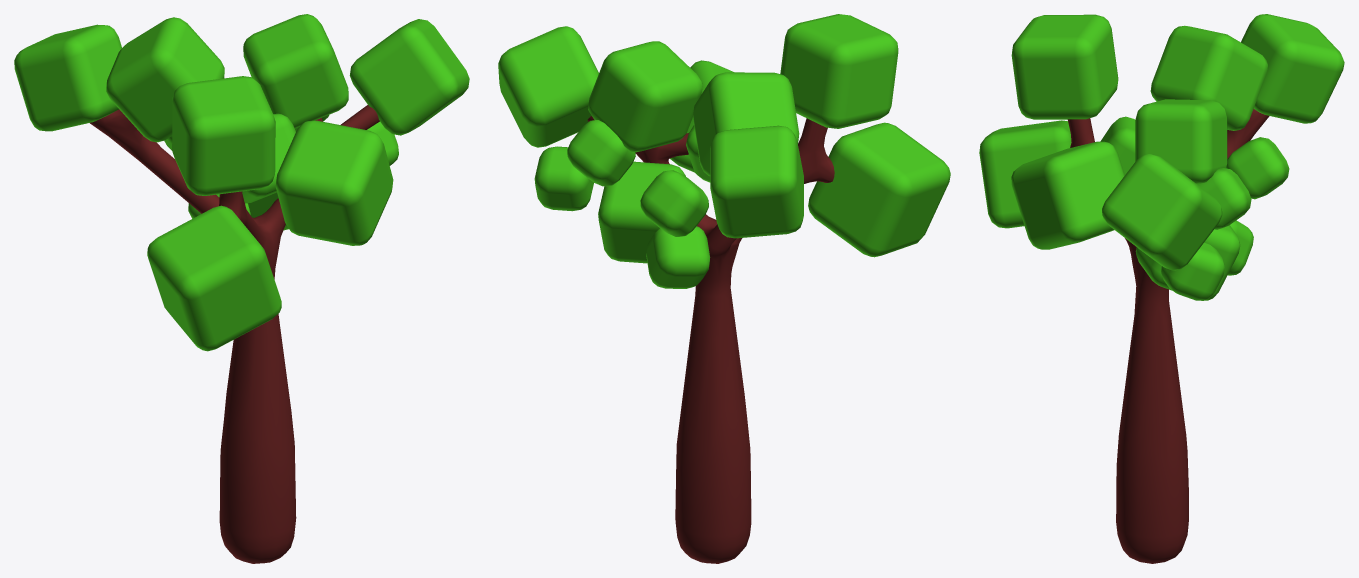
Rendered from tree-round.glb.
3 renders of one model, left to right at view 1: azimuth 30°, elevation 25°; view 2: azimuth 150°, elevation 25°; view 3: azimuth 270°, elevation 25°, orthographic. The views are drawn at different scales.
Visible parts, largest first — view 1: Tree, Cube.004, Cube.025, Cube.005, Cube.003, Cube, Cube.002, Cube.006, Cube.007, Cube.009; view 2: Tree, Cube.004, Cube.005, Cube, Cube.006, Cube.003, Cube.002, Cube.010, Cube.008, Cube.011, Cube.012, Cube.009 (+1 smaller); view 3: Tree, Cube.005, Cube.025, Cube.003, Cube.002, Cube, Cube.006, Cube.004, Cube.011, Cube.009, Cube.012, Cube.010 (+2 smaller).
Part boxes in pixels (box(x1,y1,x2,y2)): Tree: box(90, 105, 379, 563); Cube.004: box(147, 205, 281, 351); Cube.025: box(275, 120, 393, 245); Cube.005: box(172, 76, 275, 195); Cube.003: box(349, 19, 469, 135); Cube: box(14, 24, 121, 131); Cube.002: box(106, 17, 224, 142); Cube.006: box(243, 14, 348, 128); Cube.007: box(242, 113, 295, 203); Cube.009: box(367, 121, 398, 165); Tree: box(587, 116, 834, 563); Cube.004: box(808, 122, 950, 257); Cube.005: box(780, 14, 898, 128); Cube: box(710, 125, 803, 238); Cube.006: box(588, 41, 702, 152); Cube.003: box(498, 26, 598, 147); Cube.002: box(693, 72, 799, 176); Cube.010: box(598, 161, 685, 263); Cube.008: box(646, 226, 710, 288); Cube.011: box(640, 170, 708, 236); Cube.012: box(567, 120, 635, 186); Cube.009: box(534, 146, 593, 211); Tree: box(1067, 109, 1269, 563); Cube.005: box(1011, 14, 1118, 119); Cube.025: box(1011, 141, 1124, 249); Cube.003: box(1102, 154, 1222, 270); Cube.002: box(1150, 25, 1267, 130); Cube: box(1241, 14, 1344, 123); Cube.006: box(1135, 99, 1227, 184); Cube.004: box(979, 120, 1071, 228); Cube.011: box(1226, 137, 1289, 199); Cube.009: box(1161, 242, 1224, 300); Cube.012: box(1197, 168, 1251, 229); Cube.010: box(1135, 225, 1240, 300).
Size of the model in its own units: 1.7 by 2.29 by 1.51.
